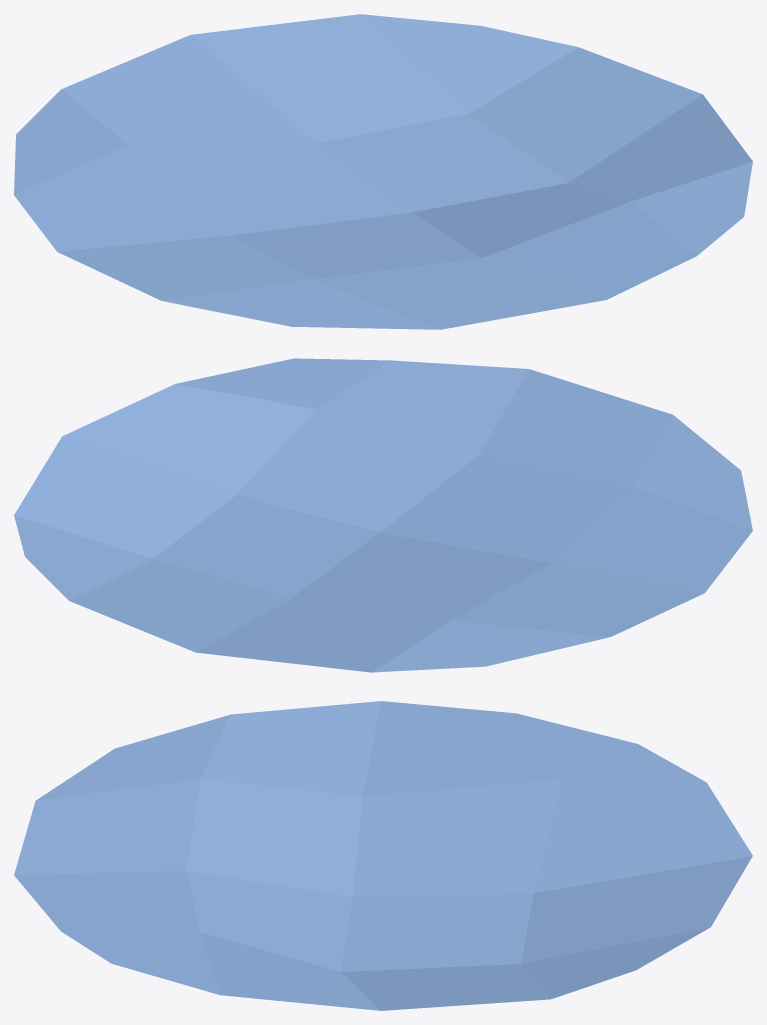
The model's file is WaterForBucket.fbx.
3 renders of one model, top to bottom at view 1: azimuth 30°, elevation 25°; view 2: azimuth 150°, elevation 25°; view 3: azimuth 270°, elevation 25°, orthographic.
Visible parts, largest first — view 1: Plane; view 2: Plane; view 3: Plane.
Boxes of the visible parts, x1,y1,x2,y2 form: Plane: (14, 14, 752, 329); Plane: (14, 358, 752, 672); Plane: (14, 701, 752, 1010).
Bounding box in the file's own units: 195 × 10.77 × 197.
